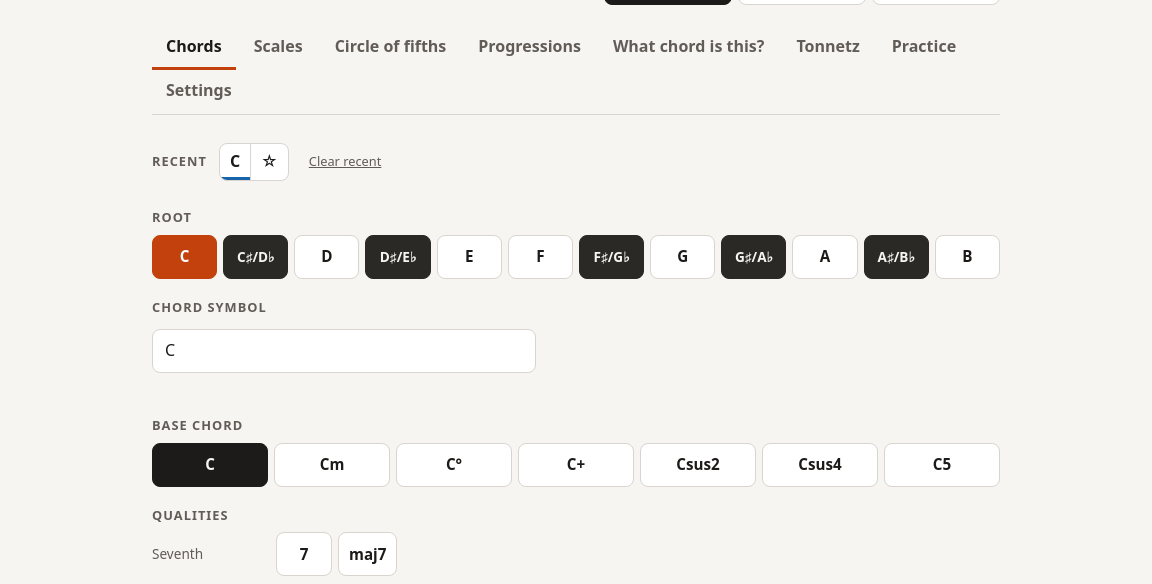
Test: App › chord builder › builds a free combination and keeps it while the choice is made here
Click the button "7": (304,554) [276,532,332,576]
(page scrolled)
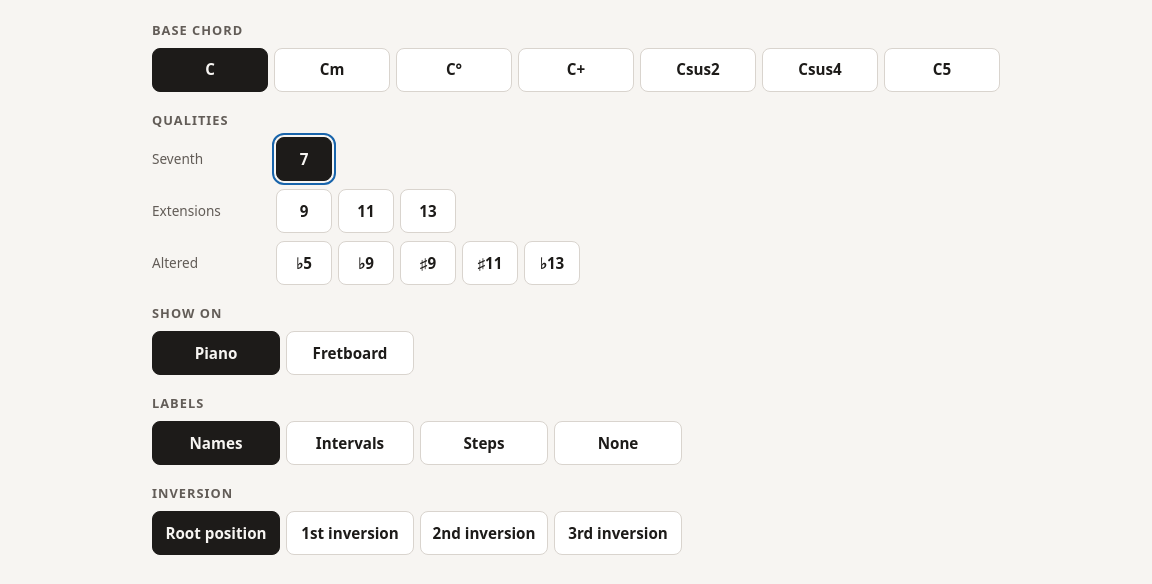
Click the button "♭5": (304,264) [276,242,332,286]
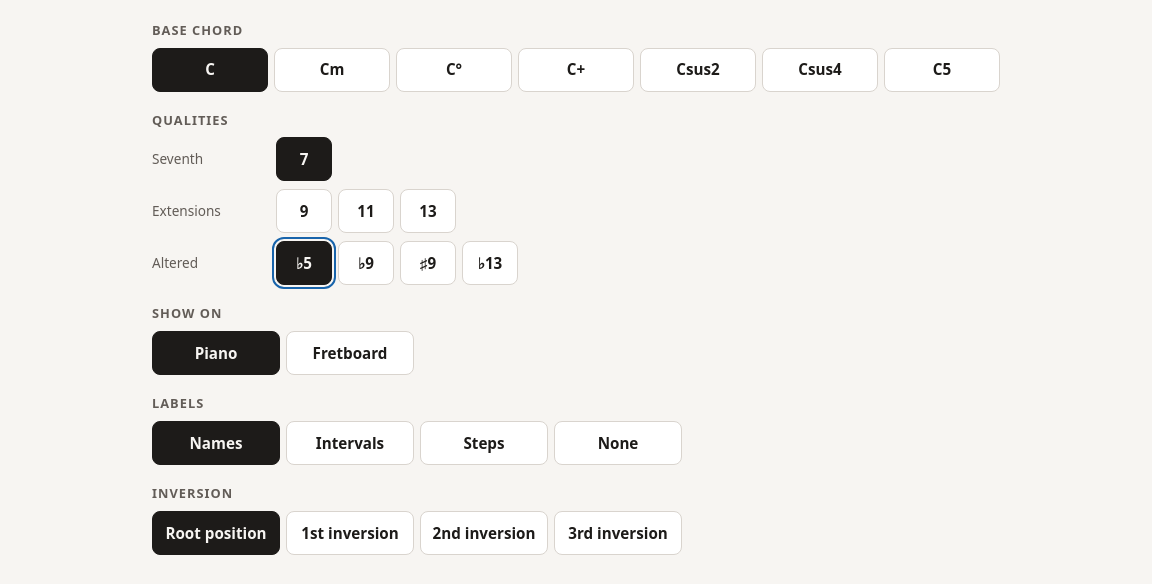
Click the button "♭9": (366,264) [338,242,394,286]
(page scrolled)
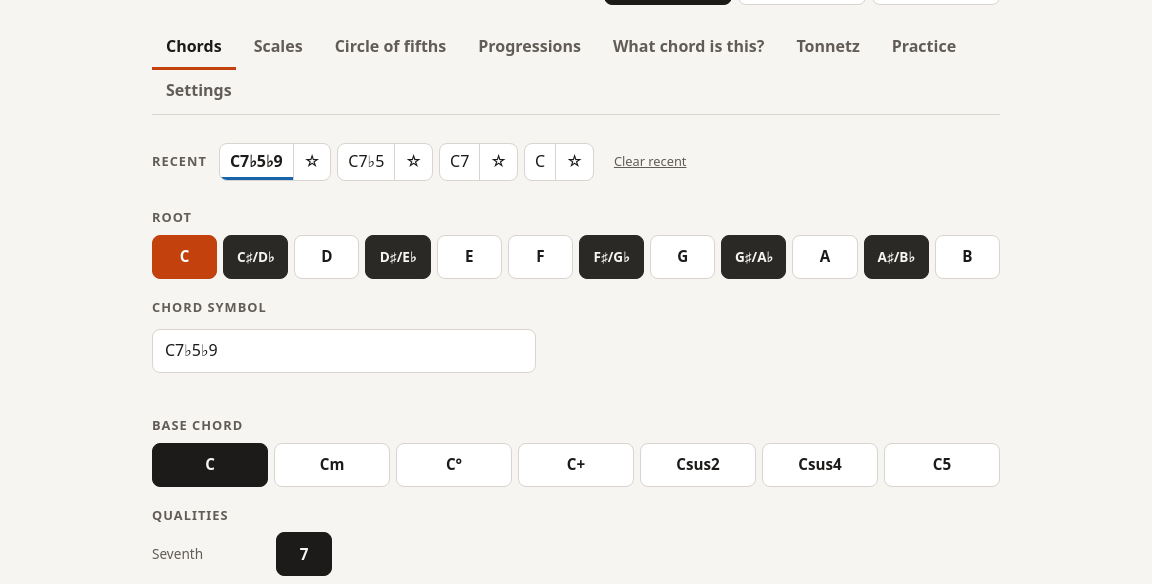
Note: It follows the root, and the inversions are those of the built chord.
Click the radio button labelled "D": (327,257) [294,235,360,279]
(page scrolled)
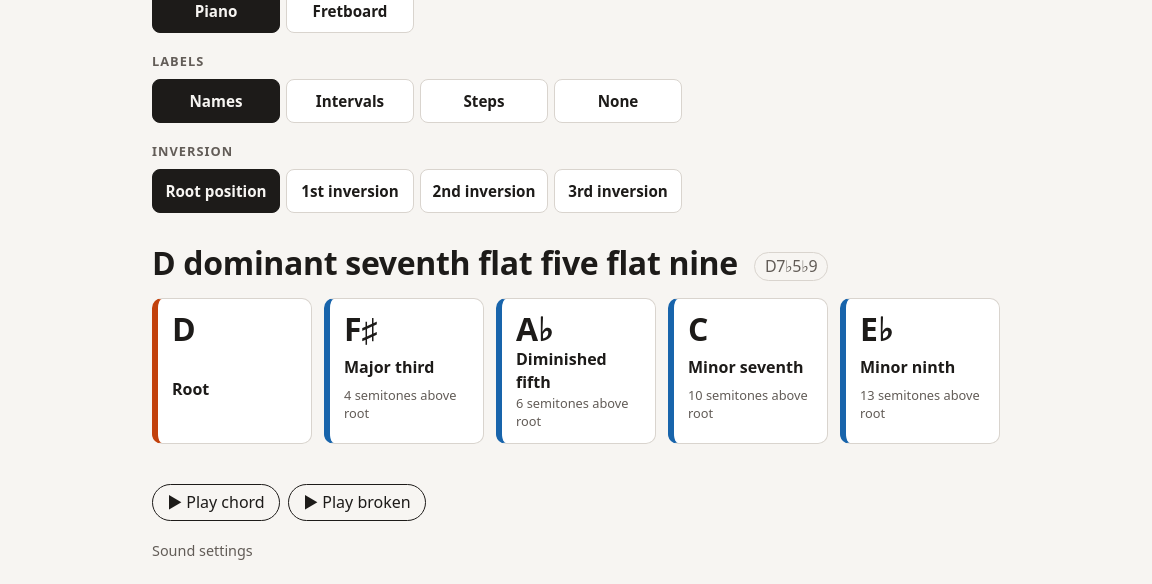
Result: the heading "D dominant seventh flat five flat nine D7♭5♭9" is shown at [152,241,828,284]
